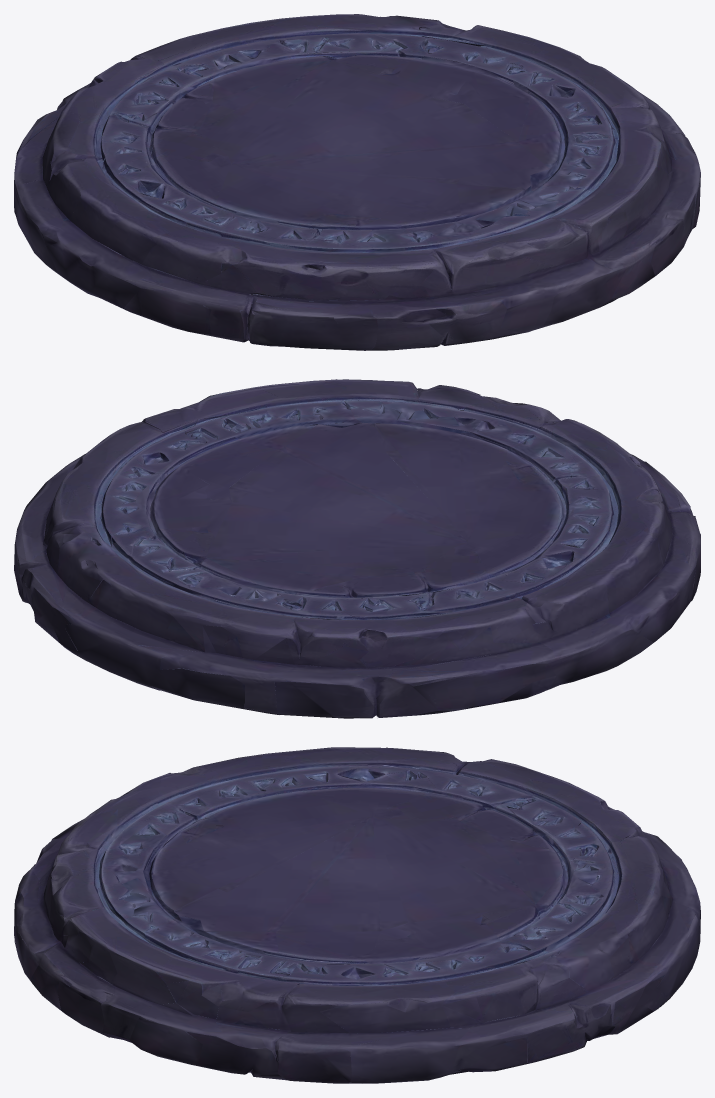
The model's file is dais.glb.
The picture shows the model from 3 angles, top to bottom: view 1: azimuth 30°, elevation 25°; view 2: azimuth 150°, elevation 25°; view 3: azimuth 270°, elevation 25°; orthographic projection.
Parts seen in each view (by area): view 1: Mesh_0; view 2: Mesh_0; view 3: Mesh_0.
Boxes of the visible parts, left/top/right/bottom form: Mesh_0: left=14, top=14, right=700, bottom=350; Mesh_0: left=14, top=379, right=700, bottom=718; Mesh_0: left=14, top=747, right=700, bottom=1083.
Bounding box in the file's own units: 1.8 × 0.2 × 1.8.
Materials: 1 (1 with a texture image).
